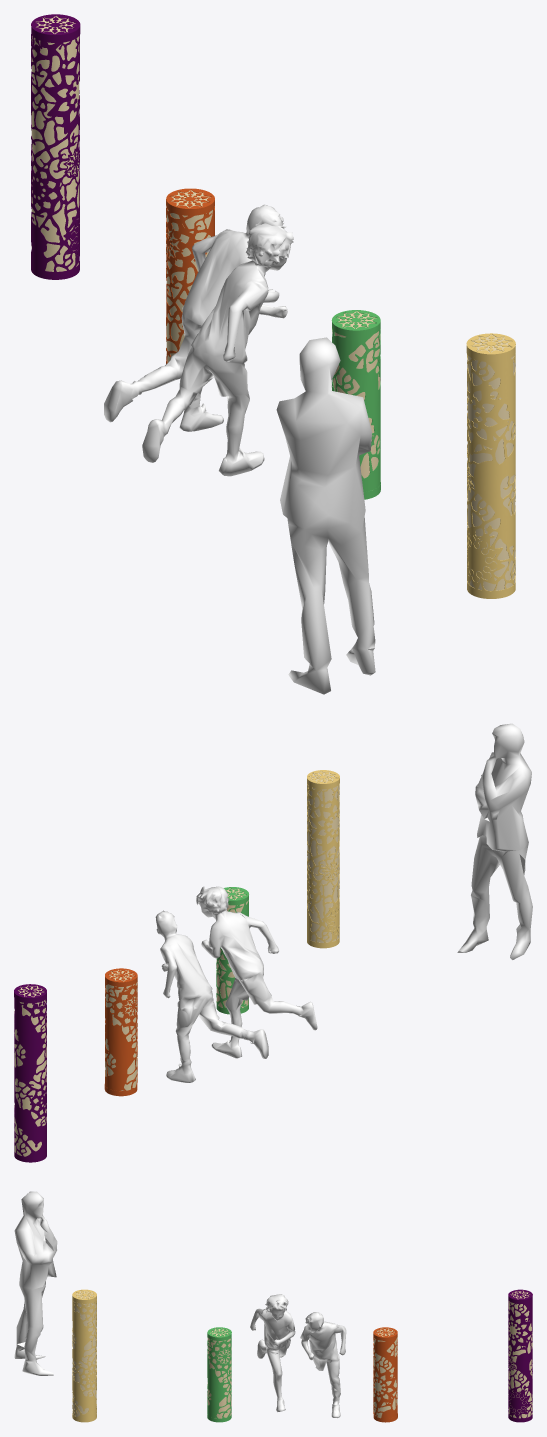
3 views of the same model, one above another, from view 1: azimuth 30°, elevation 25°; view 2: azimuth 150°, elevation 25°; view 3: azimuth 270°, elevation 25° (orthographic). The views are drawn at different scales.
Parts seen in each view (by area): view 1: 291_person, boys, bollard_rg, bollard_rg001, Circle010, Circle001, Bollard_sm, Bollard_sm001, Circle009, Circle002, Object001, Object002 (+1 smaller); view 2: boys, 291_person, bollard_rg001, bollard_rg, Circle001, Bollard_sm001, Circle010, Circle009, Bollard_sm, Circle002; view 3: 291_person, boys, bollard_rg, bollard_rg001, Bollard_sm, Bollard_sm001, Circle010, Circle001, Circle009, Circle002.
Part boxes in pixels (left/top/right/bottom): 291_person: left=276, top=337, right=375, bottom=694; boys: left=104, top=204, right=293, bottom=476; bollard_rg: left=466, top=346, right=515, bottom=598; bollard_rg001: left=31, top=27, right=80, bottom=279; Circle010: left=31, top=16, right=79, bottom=271; Circle001: left=467, top=334, right=515, bottom=590; Bollard_sm: left=332, top=322, right=380, bottom=492; Bollard_sm001: left=166, top=199, right=214, bottom=362; Circle009: left=166, top=190, right=212, bottom=362; Circle002: left=332, top=311, right=380, bottom=478; Object001: left=466, top=333, right=515, bottom=354; Object002: left=31, top=14, right=80, bottom=35; boys: left=155, top=886, right=317, bottom=1082; 291_person: left=457, top=723, right=532, bottom=959; bollard_rg001: left=14, top=992, right=46, bottom=1162; bollard_rg: left=307, top=778, right=339, bottom=948; Circle001: left=307, top=771, right=339, bottom=942; Bollard_sm001: left=105, top=977, right=137, bottom=1090; Circle010: left=14, top=985, right=46, bottom=1156; Circle009: left=105, top=970, right=137, bottom=1090; Bollard_sm: left=216, top=896, right=248, bottom=1008; Circle002: left=216, top=888, right=248, bottom=1007; 291_person: left=14, top=1191, right=57, bottom=1375; boys: left=250, top=1294, right=346, bottom=1417; bollard_rg: left=72, top=1296, right=96, bottom=1422; bollard_rg001: left=508, top=1296, right=532, bottom=1422; Bollard_sm: left=207, top=1333, right=231, bottom=1418; Bollard_sm001: left=373, top=1333, right=397, bottom=1418; Circle010: left=508, top=1290, right=532, bottom=1418; Circle001: left=72, top=1291, right=96, bottom=1416; Circle009: left=373, top=1328, right=397, bottom=1417; Circle002: left=207, top=1328, right=231, bottom=1418.
Size of the model in its own units: 1.56 by 1.88 by 5.
